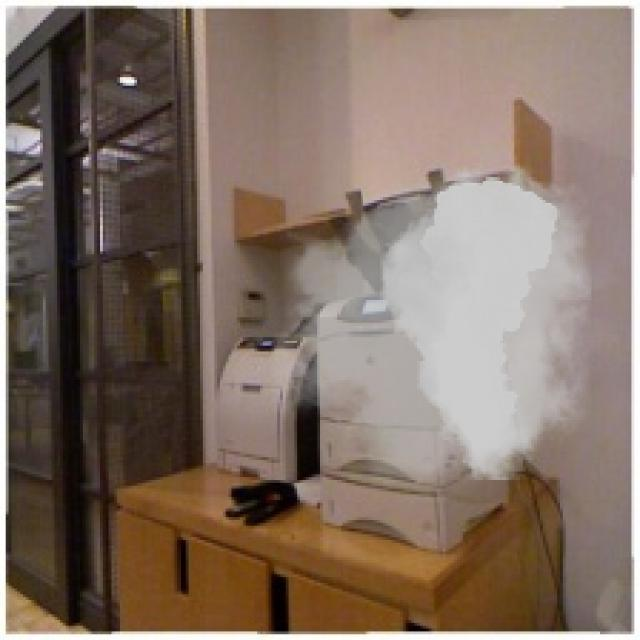smoke: (249, 154, 620, 503)
